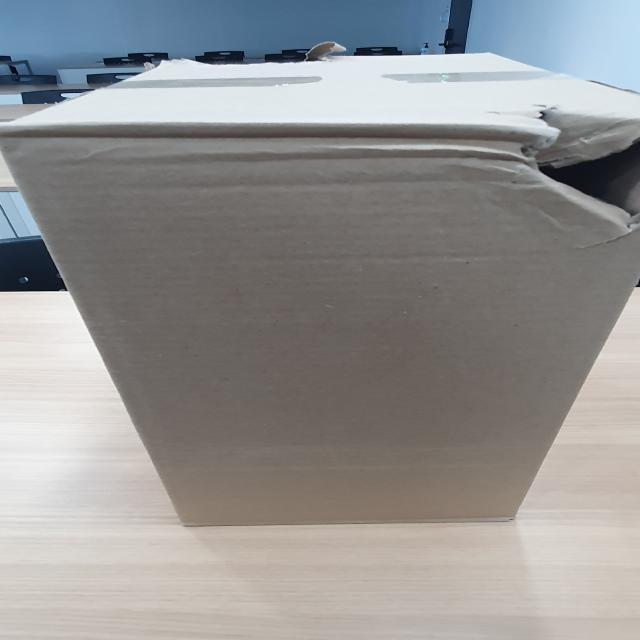hole: (516, 103, 640, 238)
